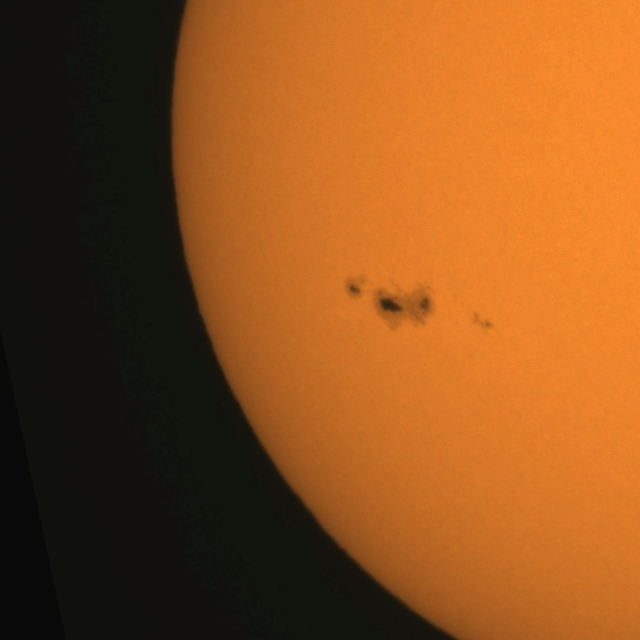sunspot: (374, 288, 438, 336), (470, 310, 494, 332)
